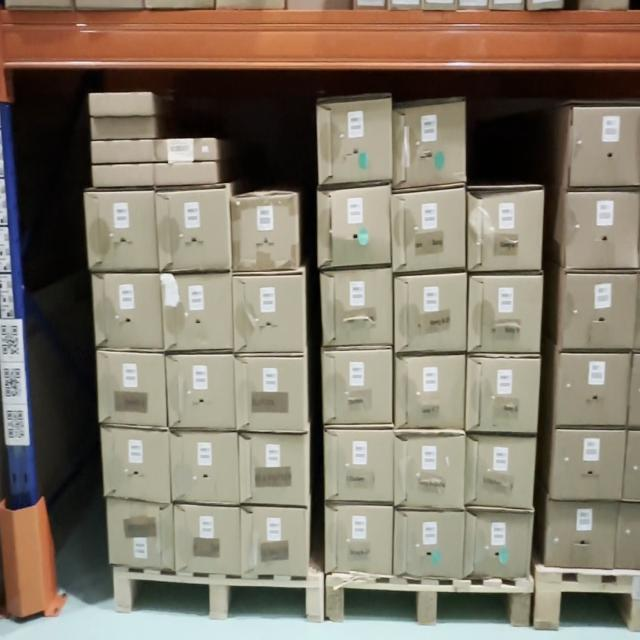box: (394, 100, 464, 187), (318, 102, 392, 180), (562, 274, 639, 348), (468, 275, 542, 351), (394, 190, 464, 270), (319, 186, 389, 266), (470, 191, 540, 268), (395, 273, 465, 350), (161, 186, 225, 268), (571, 108, 639, 185), (324, 270, 392, 347), (323, 349, 392, 424), (235, 276, 302, 352), (394, 434, 464, 506), (238, 356, 304, 432), (89, 193, 155, 269), (467, 358, 538, 428), (396, 356, 464, 429), (240, 432, 307, 506), (167, 272, 230, 350), (98, 352, 164, 426), (569, 196, 638, 266), (233, 193, 295, 270), (552, 432, 625, 496), (468, 436, 534, 506), (327, 428, 392, 499), (325, 506, 393, 573), (561, 354, 625, 425), (170, 354, 233, 426), (173, 432, 237, 501), (97, 275, 159, 345), (395, 514, 464, 576), (466, 512, 528, 579), (243, 511, 307, 575), (104, 433, 168, 497), (548, 503, 614, 562), (177, 509, 238, 572), (109, 504, 173, 561), (93, 140, 153, 163), (154, 140, 214, 162), (156, 164, 215, 185), (93, 166, 154, 184), (92, 120, 153, 137), (90, 95, 152, 111)
